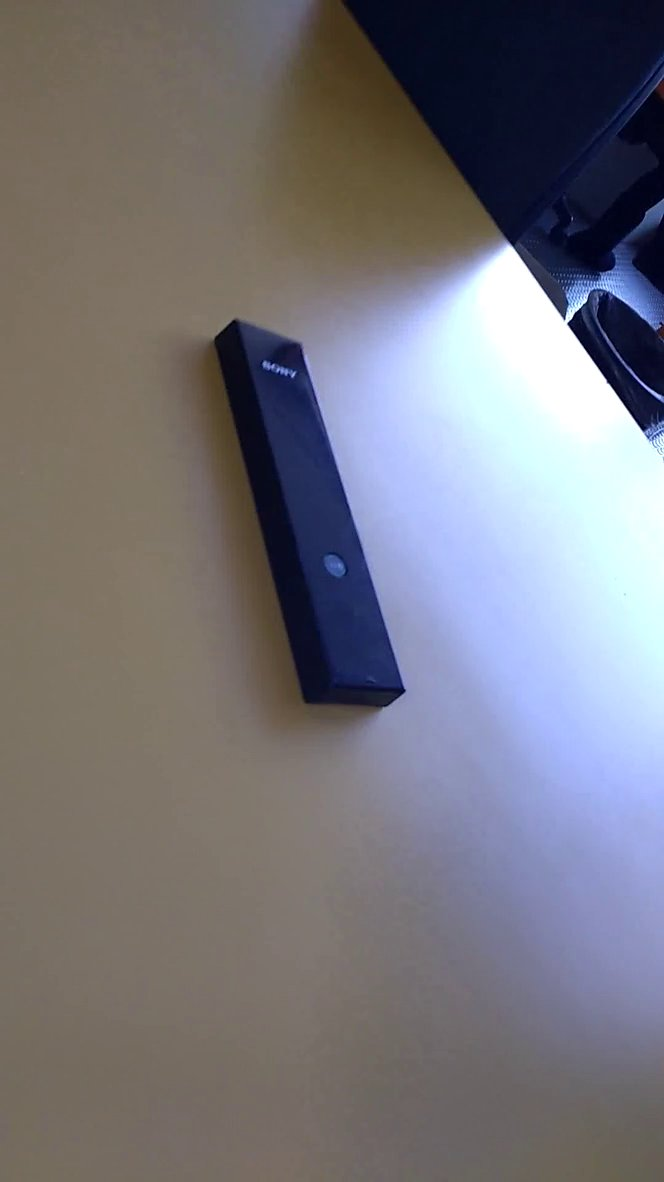bin: (574, 268, 664, 455)
remote: (209, 307, 420, 726)
